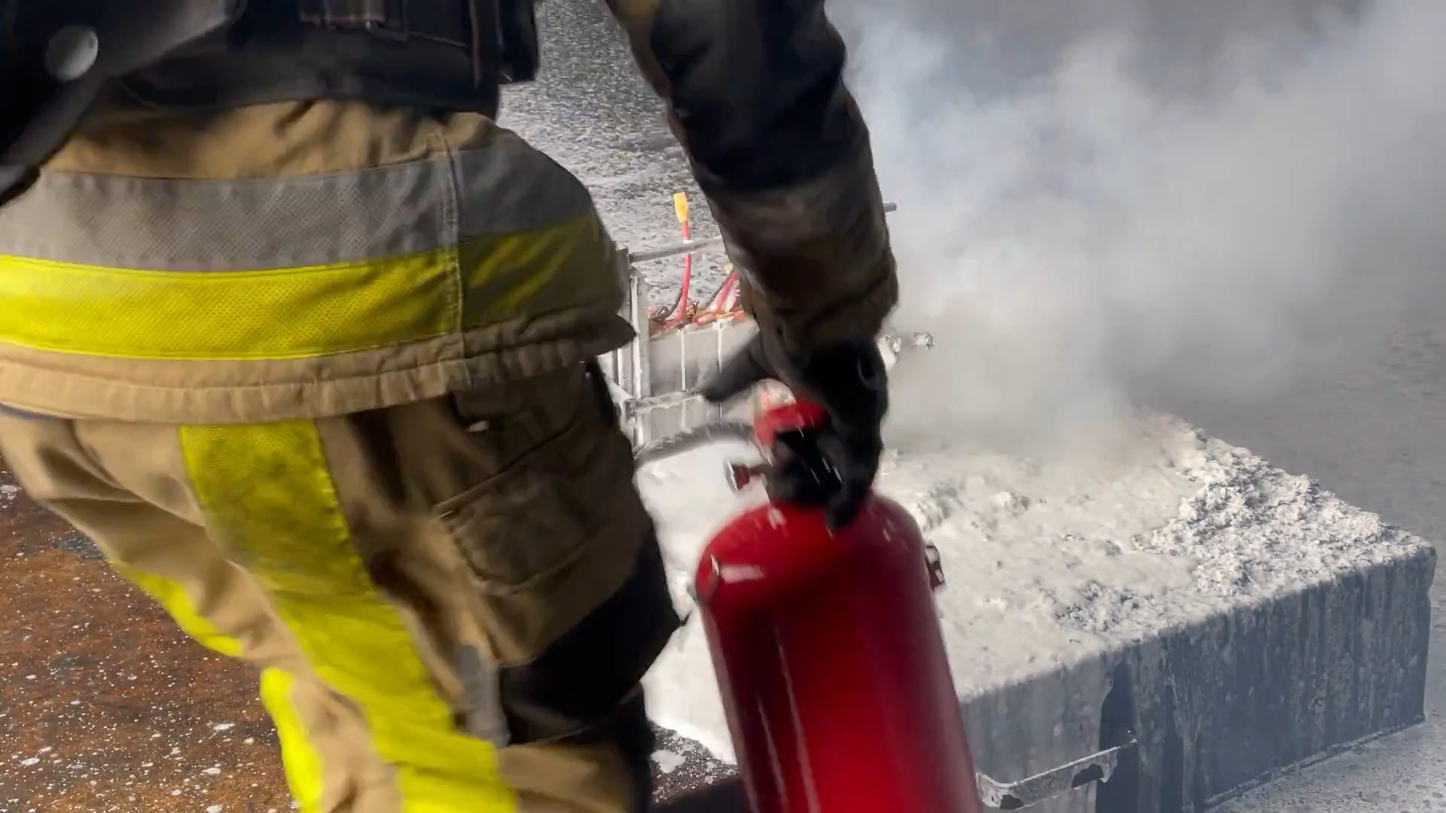smoke: (811, 44, 1446, 509)
